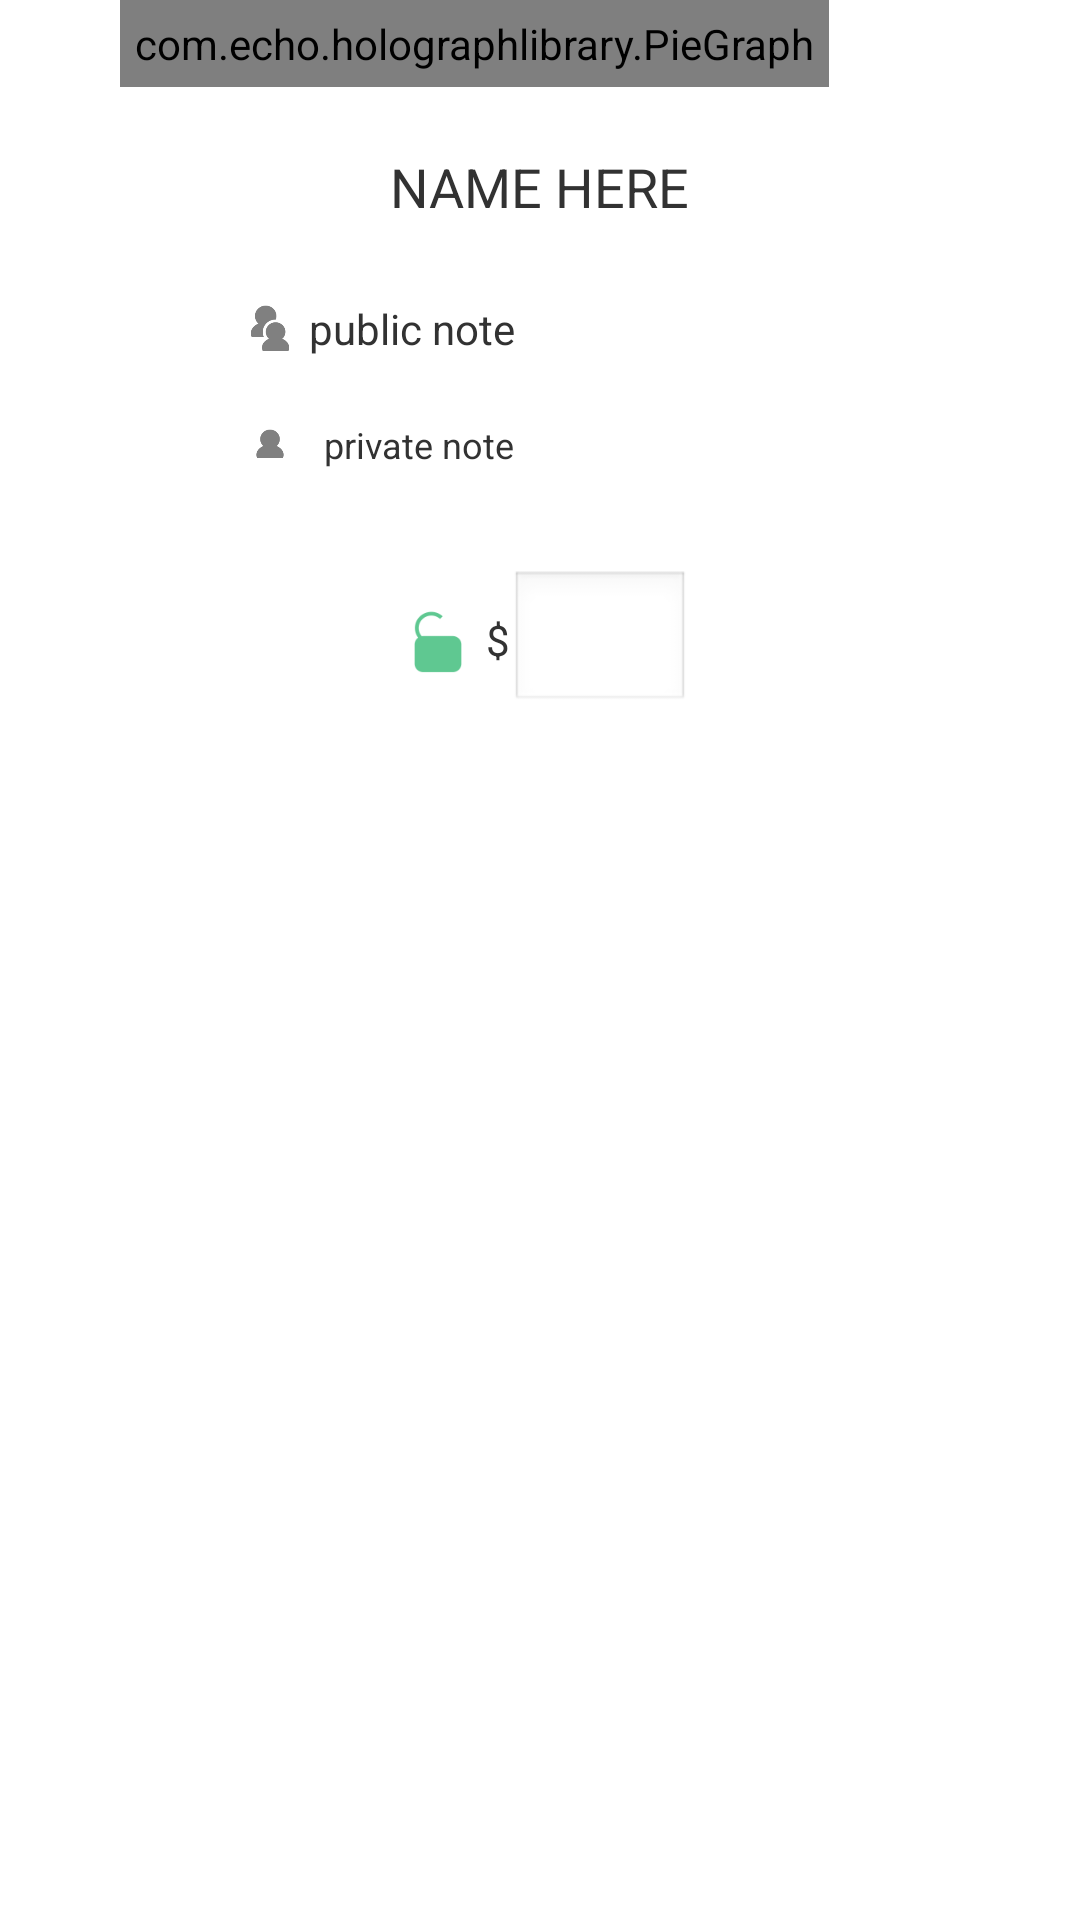

Icon click points for this 1080 × 1920 phone screenshot, format point (x, y):
group darkgrey: point (270, 328)
person darkgrey: point (270, 443)
unlocked darkgreen: point (438, 641)
